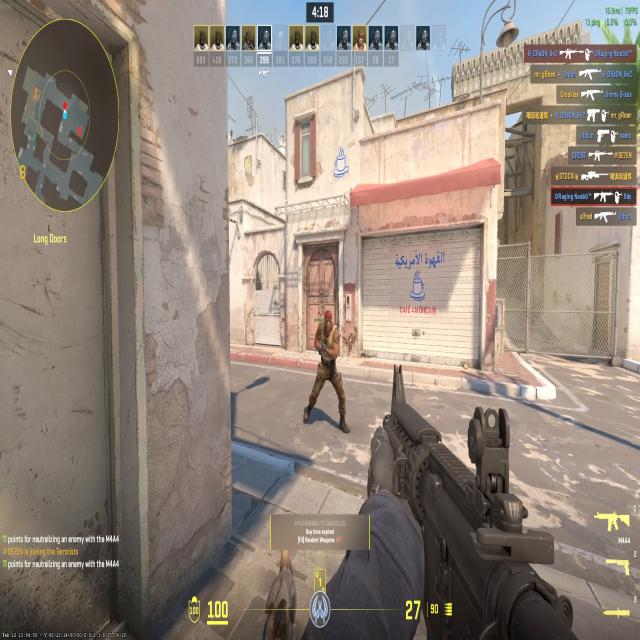player: (303, 308, 352, 448)
